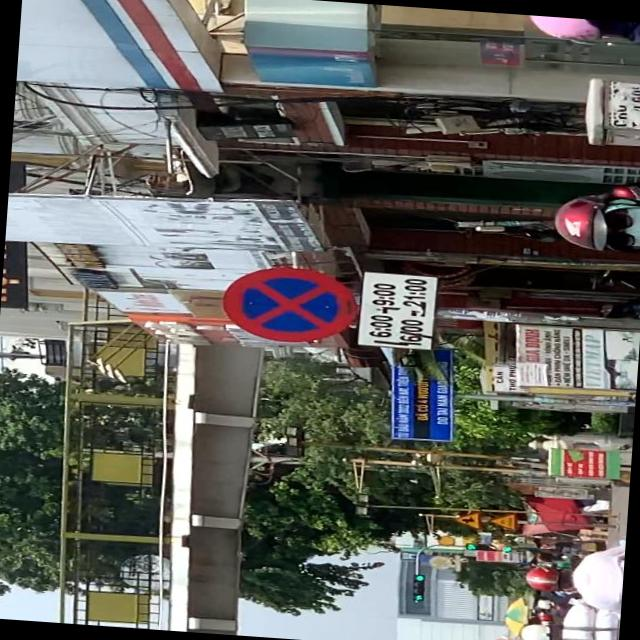P-130: (219, 262, 356, 346)
